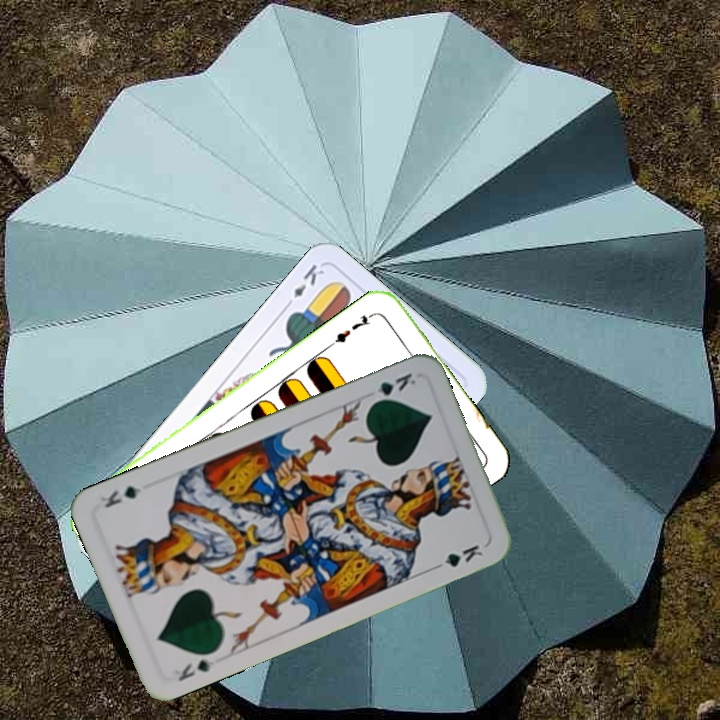E7: (327, 308, 378, 349)
EK: (280, 260, 327, 311)
GK: (366, 368, 419, 407), (170, 655, 217, 684)
